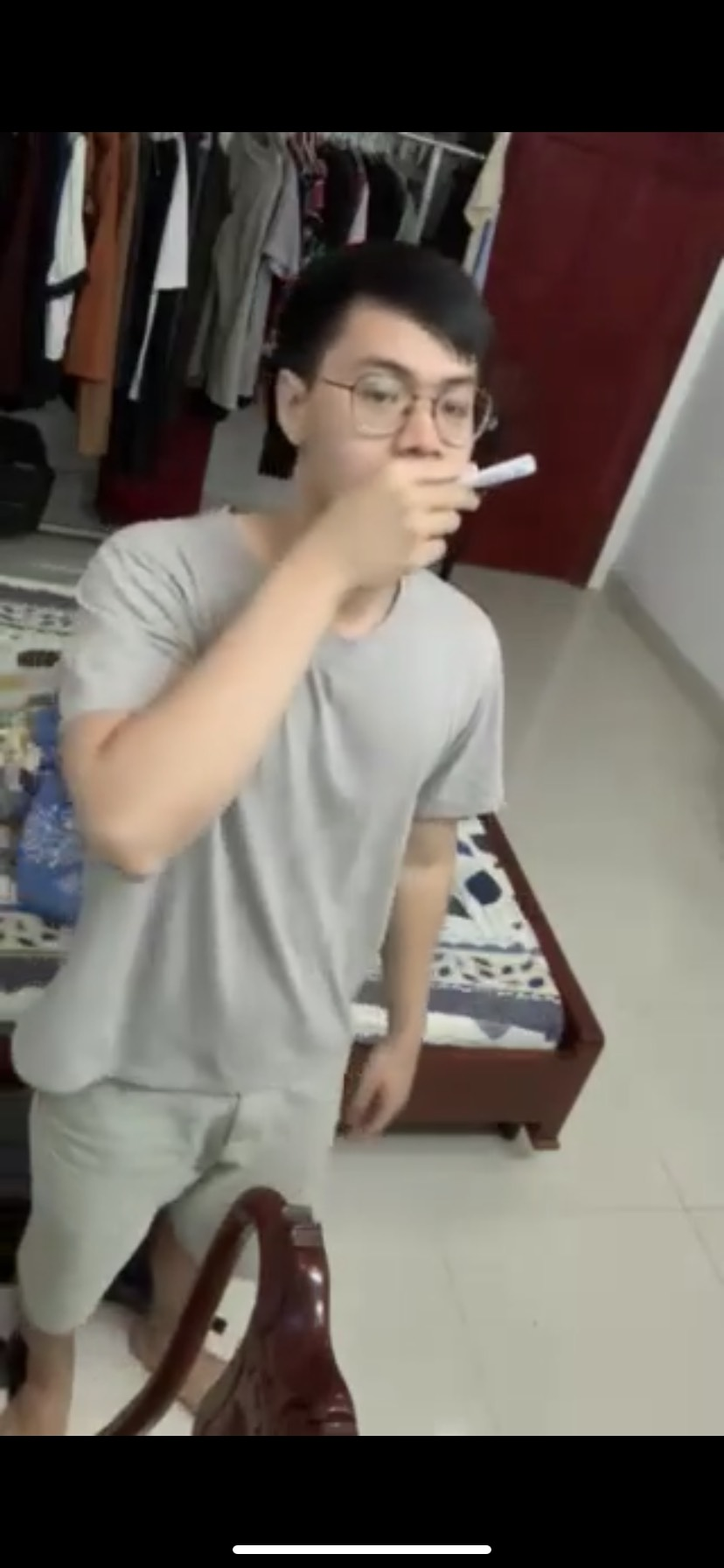cigarette: (461, 445, 546, 492)
person: (50, 233, 548, 1298)
